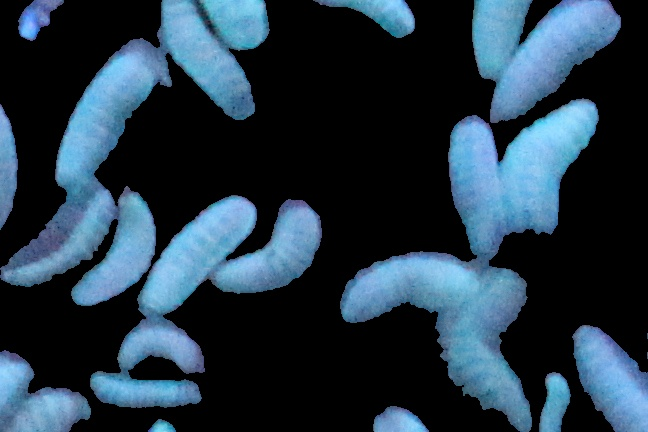larvae: (484, 1, 619, 114), (446, 273, 533, 429), (134, 197, 248, 312), (54, 52, 159, 174), (3, 181, 108, 295), (159, 1, 259, 112), (514, 106, 588, 240), (71, 192, 157, 306), (439, 117, 511, 252), (225, 197, 317, 294), (351, 260, 474, 323), (575, 325, 648, 429), (115, 320, 215, 375), (462, 1, 530, 79), (203, 1, 289, 60), (305, 1, 431, 40), (80, 373, 201, 409), (10, 389, 99, 432), (1, 92, 19, 240)
